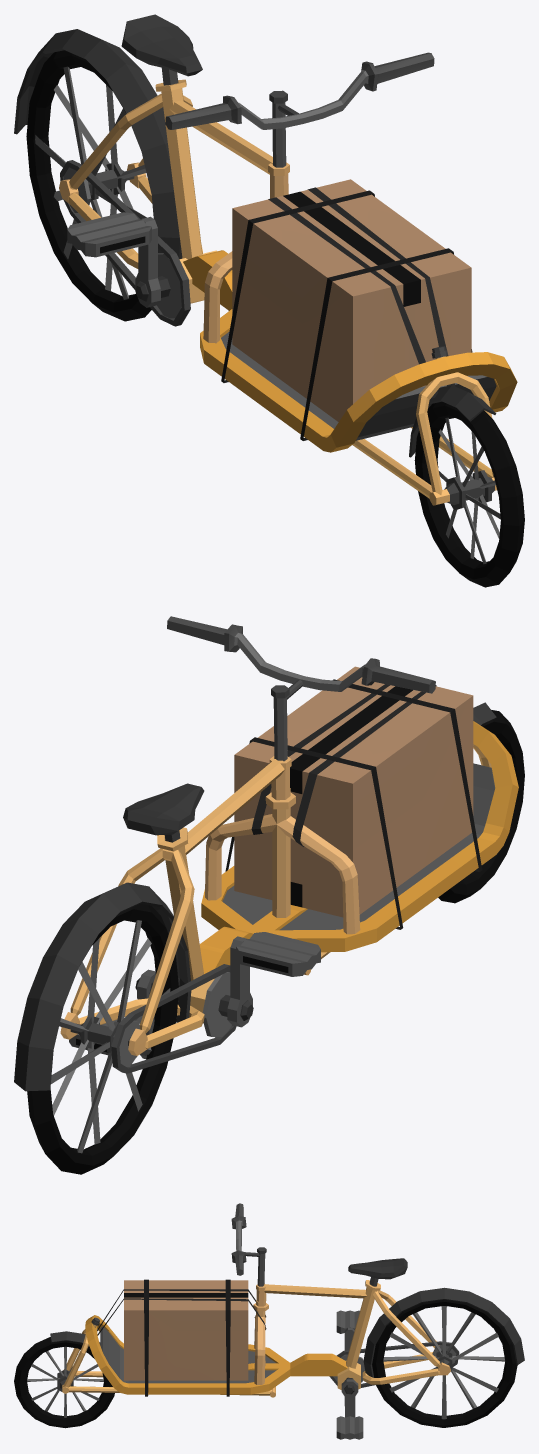
Rendered from bike-only-cargo.glb.
The picture shows the model from 3 angles, top to bottom: view 1: azimuth 30°, elevation 25°; view 2: azimuth 150°, elevation 25°; view 3: azimuth 270°, elevation 25°; orthographic projection. The views are drawn at different scales.
Visible parts, largest first — view 1: SM_Veh_Bike_02_Combined; view 2: SM_Veh_Bike_02_Combined; view 3: SM_Veh_Bike_02_Combined.
Boxes of the visible parts, left/top/right/bottom form: SM_Veh_Bike_02_Combined: left=14, top=14, right=524, bottom=587; SM_Veh_Bike_02_Combined: left=14, top=616, right=524, bottom=1174; SM_Veh_Bike_02_Combined: left=14, top=1203, right=524, bottom=1439.
Size of the model in its own units: 0.772 by 1.06 by 2.53.
1 material, 1 textured.
